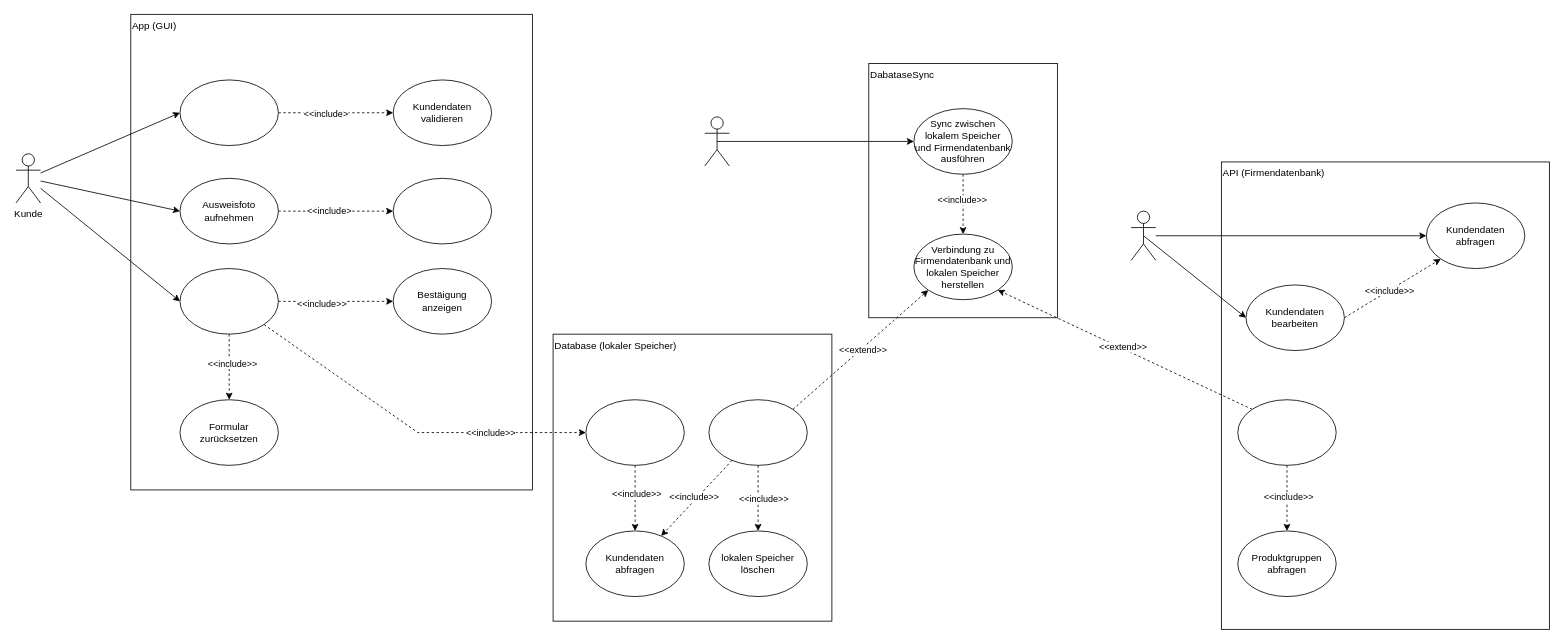
Image size: 1564x644. Some labels were removed from this diagram. Here are the shapes that lost their labels. From the top down, the centre of each, then its label:
(x=228, y=112): Kundendaten eingeben
(x=716, y=141): Mitarbeiter (anwesend an der Messe)
(x=442, y=211): Webcam des Laptops anbinden
(x=1143, y=235): Entwickler (firmenintern)
(x=228, y=301): Ausweis anfordern
(x=634, y=432): Kundendaten speichern
(x=757, y=432): Kundendaten übermitteln
(x=1286, y=432): Produktgruppen übermitteln
